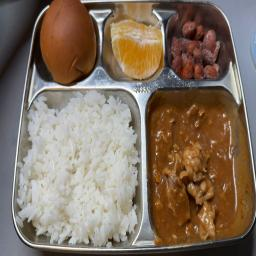100_bread: (38, 1, 99, 82)
100_nuts: (168, 16, 224, 82)
100_orange: (104, 14, 165, 80)
100_rice: (20, 92, 141, 246)
50_beef: (148, 102, 242, 233)
